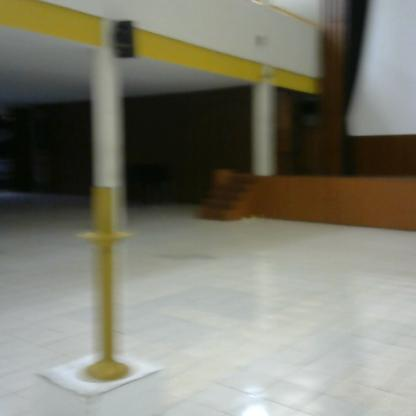pole: (75, 184, 138, 388)
